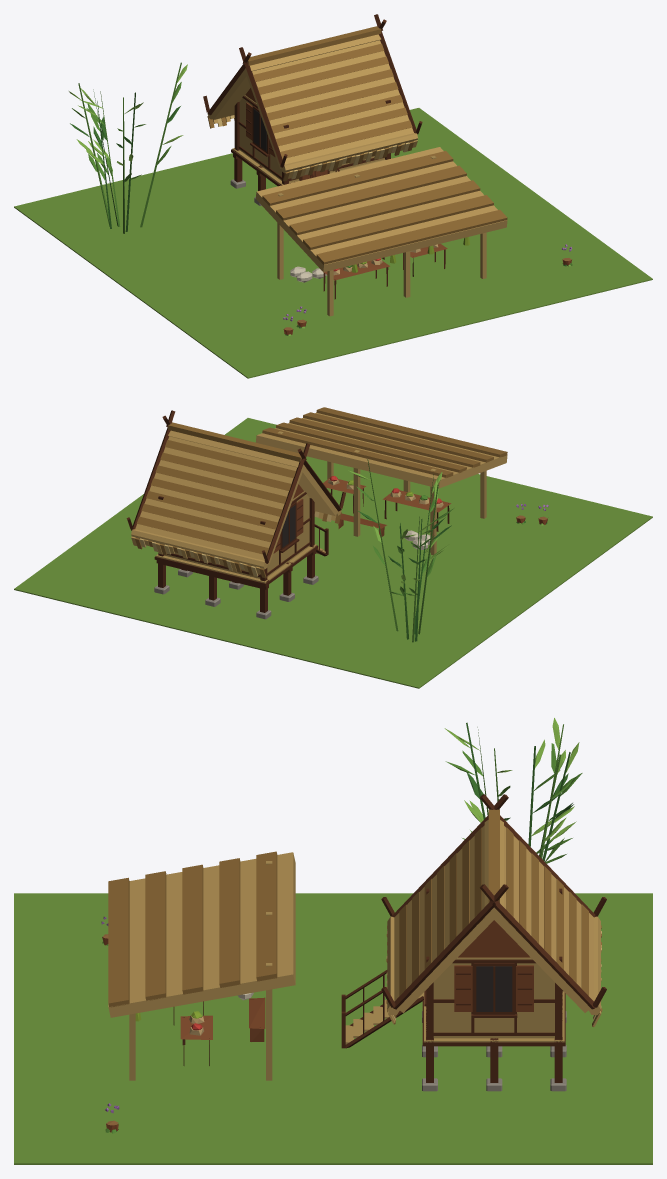
Rendered from shop_1.glb.
3 renders of one model, top to bottom at view 1: azimuth 30°, elevation 25°; view 2: azimuth 150°, elevation 25°; view 3: azimuth 270°, elevation 25°, orthographic. The views are drawn at different scales.
Parts seen in each view (by area): view 1: body; view 2: body; view 3: body, windows.
Part boxes in pixels (x1=…): body: x1=14, y1=14, x2=652, y2=378; body: x1=14, y1=407, x2=652, y2=688; body: x1=14, y1=718, x2=652, y2=1164; windows: x1=476, y1=966, x2=512, y2=1011.
Size of the model in its own units: 15.9 by 6.22 by 15.9.
